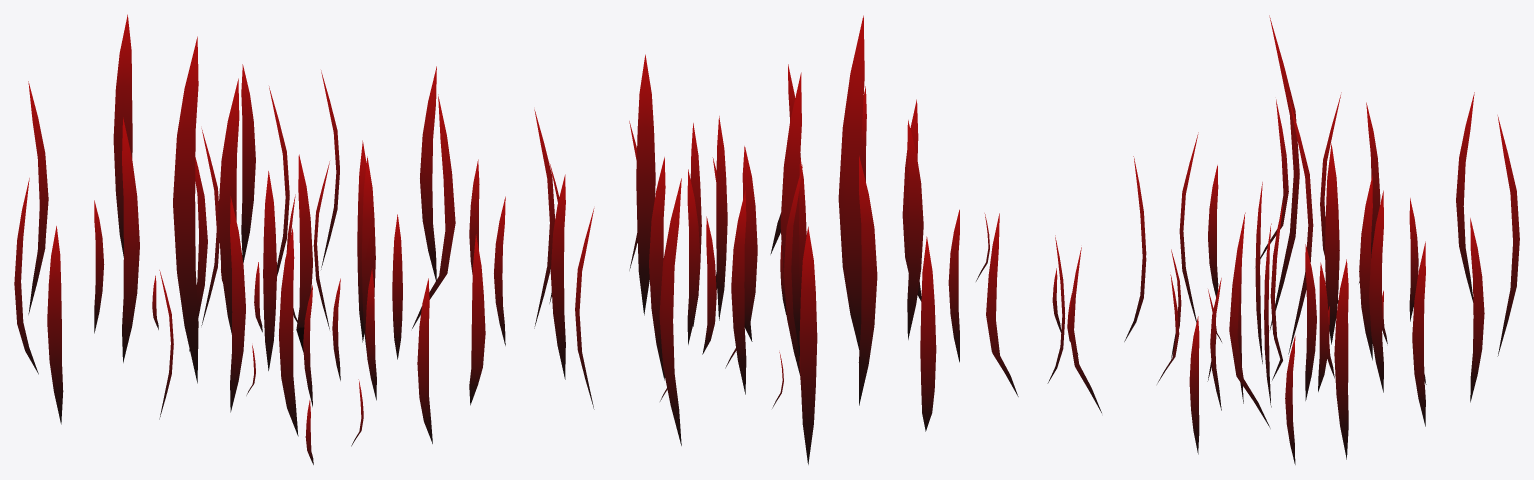
File: GrassOk.fbx
3 renders of one model, left to right at view 1: azimuth 30°, elevation 25°; view 2: azimuth 150°, elevation 25°; view 3: azimuth 270°, elevation 25°, orthographic. The views are drawn at different scales.
Visible parts, largest first — view 1: GrassGood; view 2: GrassGood; view 3: GrassGood.
Boxes of the visible parts, left/top/right/bottom form: GrassGood: left=14, top=14, right=505, bottom=464; GrassGood: left=534, top=15, right=1018, bottom=464; GrassGood: left=1047, top=15, right=1519, bottom=464.
Size of the model in its own units: 2.72 by 2.08 by 2.77.
